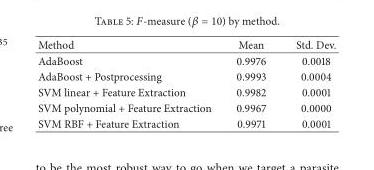table: (37, 36, 335, 130)
table column: (37, 36, 223, 130), (223, 36, 280, 130), (280, 36, 335, 130)
table column header: (37, 36, 335, 52)
table row: (37, 36, 335, 52), (37, 52, 335, 68), (37, 83, 335, 99), (37, 99, 335, 115), (37, 68, 335, 83), (37, 115, 335, 130)
